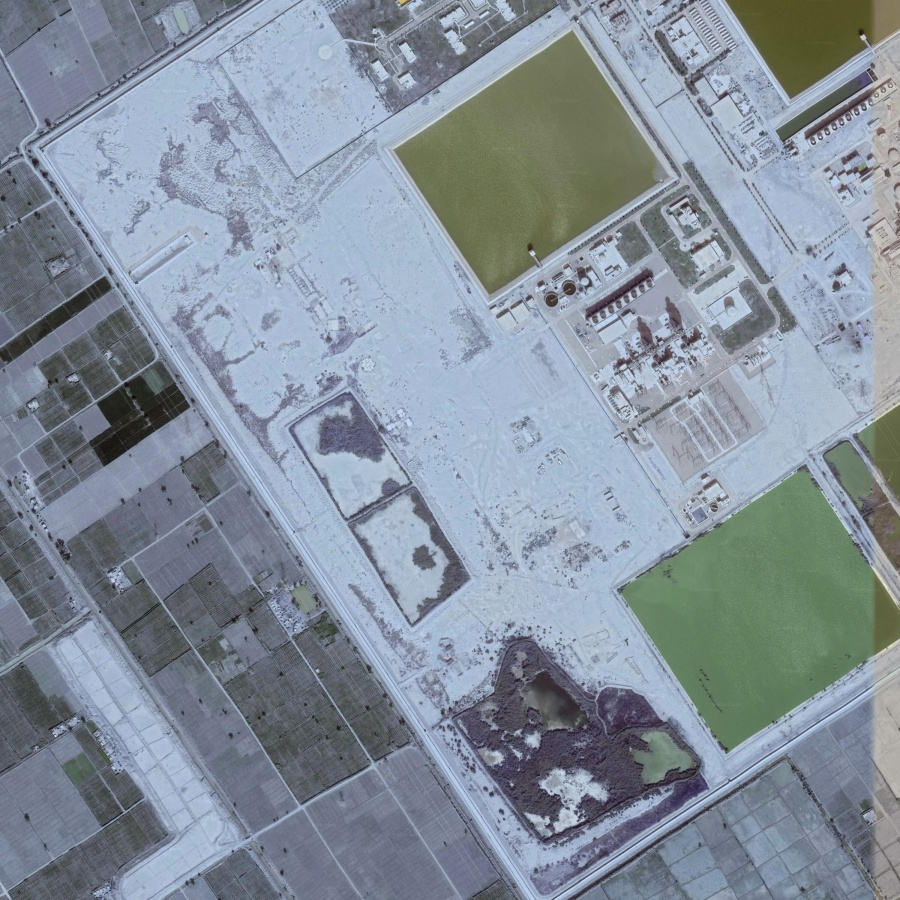PowerPlant: (541, 193, 783, 514)
